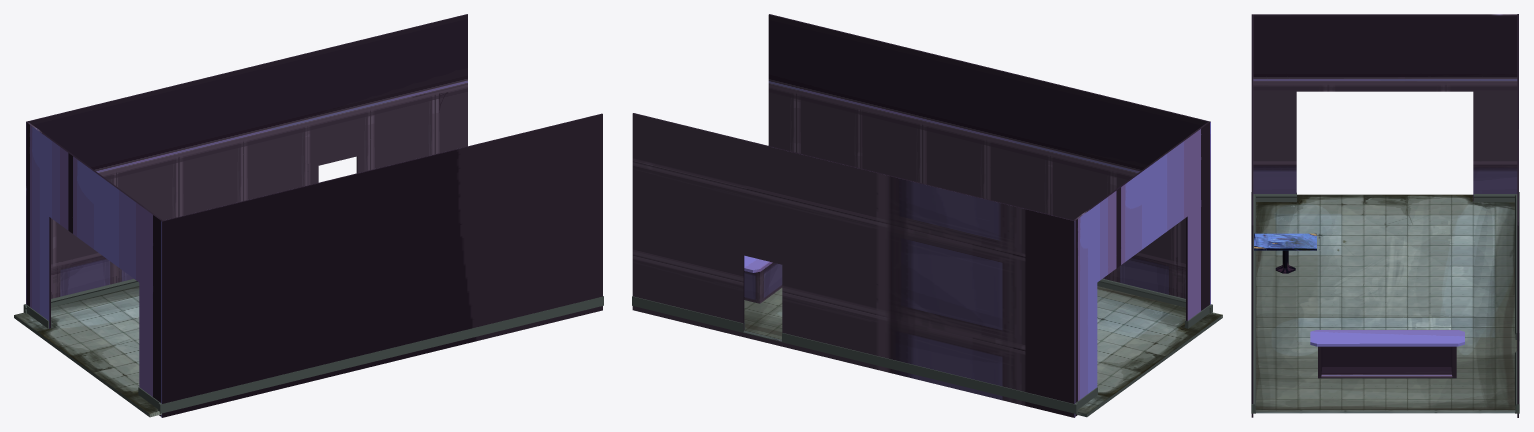
Rendered from reswalls.fbx.
3 views of the same model, side by side, from view 1: azimuth 30°, elevation 25°; view 2: azimuth 150°, elevation 25°; view 3: azimuth 270°, elevation 25° (orthographic). The views are drawn at different scales.
Visible parts, largest first — view 1: Cube.003, Cube.002, Cube.112, Cube, Cube.020, Cube.023; view 2: Cube.002, Cube.003, Cube.112, Cube, Cube.023, Cube.008, Cube.020; view 3: Cube, Cube.112, Cube.008, Cube.009, Cube.015, Cube.003, Cube.020, Cube.023, Cube.002, Cube.021, Cube.022.
Part boxes in pixels (box(x1,y1,x2,y2)): Cube.003: box(161, 113, 602, 417); Cube.002: box(26, 14, 467, 304); Cube.112: box(27, 122, 162, 416); Cube: box(14, 286, 161, 417); Cube.020: box(158, 296, 603, 413); Cube.023: box(23, 279, 139, 313); Cube.002: box(632, 113, 1075, 417); Cube.003: box(768, 14, 1210, 304); Cube.112: box(1074, 122, 1209, 416); Cube: box(744, 286, 1222, 417); Cube.023: box(632, 296, 1078, 413); Cube.008: box(744, 262, 782, 303); Cube.020: box(1097, 278, 1212, 313); Cube: box(1255, 194, 1517, 413); Cube.112: box(1253, 14, 1517, 201); Cube.008: box(1318, 346, 1456, 378); Cube.009: box(1310, 330, 1464, 346); Cube.015: box(1254, 233, 1316, 273); Cube.003: box(1251, 14, 1253, 417); Cube.020: box(1251, 192, 1255, 413); Cube.023: box(1515, 192, 1519, 413); Cube.002: box(1517, 14, 1518, 417); Cube.021: box(1255, 193, 1296, 201); Cube.022: box(1474, 194, 1516, 201).
Bounding box in the file's own units: 1092 × 452 × 570.
